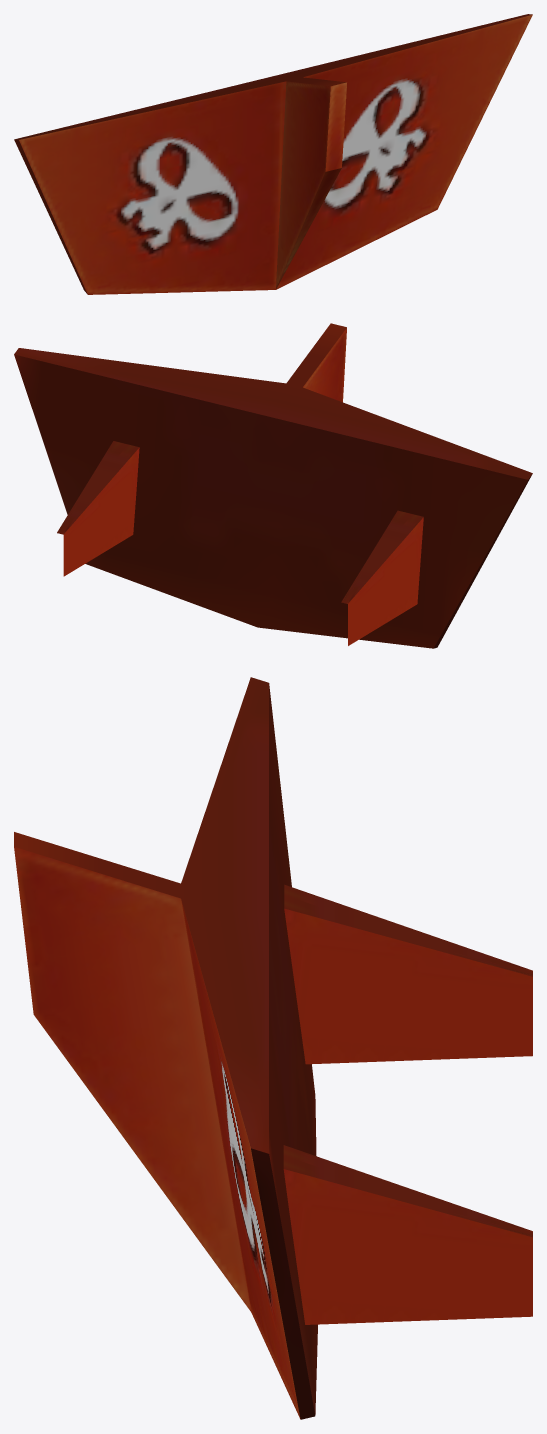
The model's file is Truck 6 Spoiler.glb.
3 renders of one model, top to bottom at view 1: azimuth 30°, elevation 25°; view 2: azimuth 150°, elevation 25°; view 3: azimuth 270°, elevation 25°, orthographic. The views are drawn at different scales.
Visible parts, largest first — view 1: spoiler; view 2: spoiler; view 3: spoiler.
Boxes of the visible parts, x1,y1,x2,y2 form: spoiler: (14,14,532,294); spoiler: (14,323,532,648); spoiler: (14,677,532,1419).
Bounding box in the file's own units: 1.81 × 0.8455 × 0.8409.
Materials: 1 (1 with a texture image).
